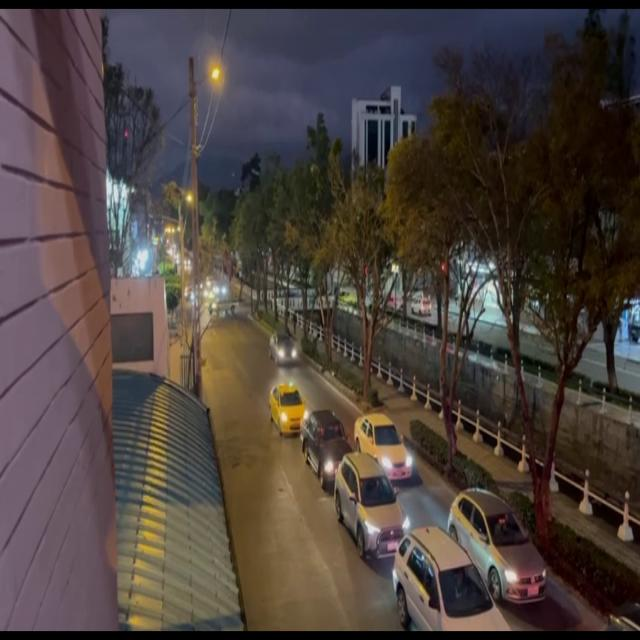CMT: (304, 410, 352, 486)
